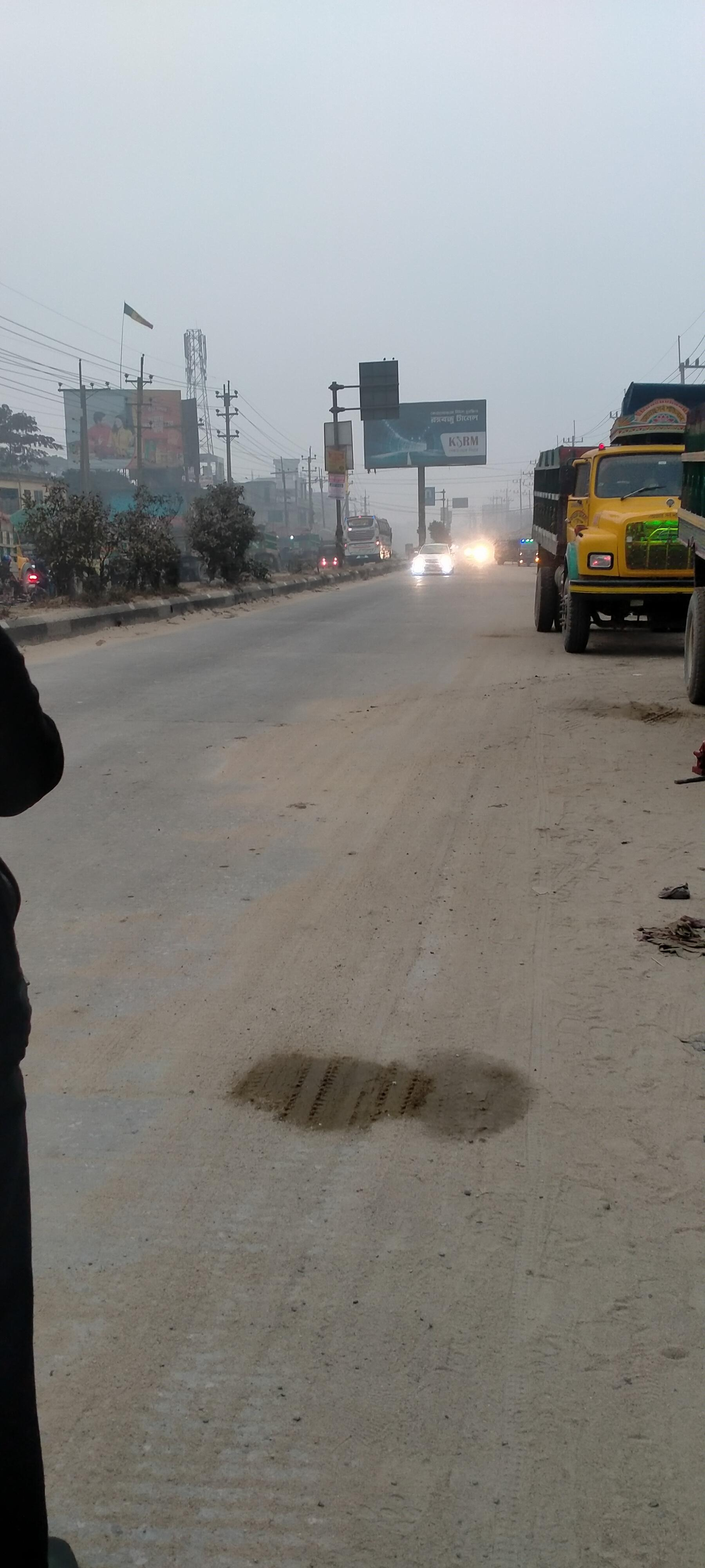Bus: (328, 503, 405, 570)
Car: (400, 531, 457, 586)
Truck: (511, 359, 693, 679)
